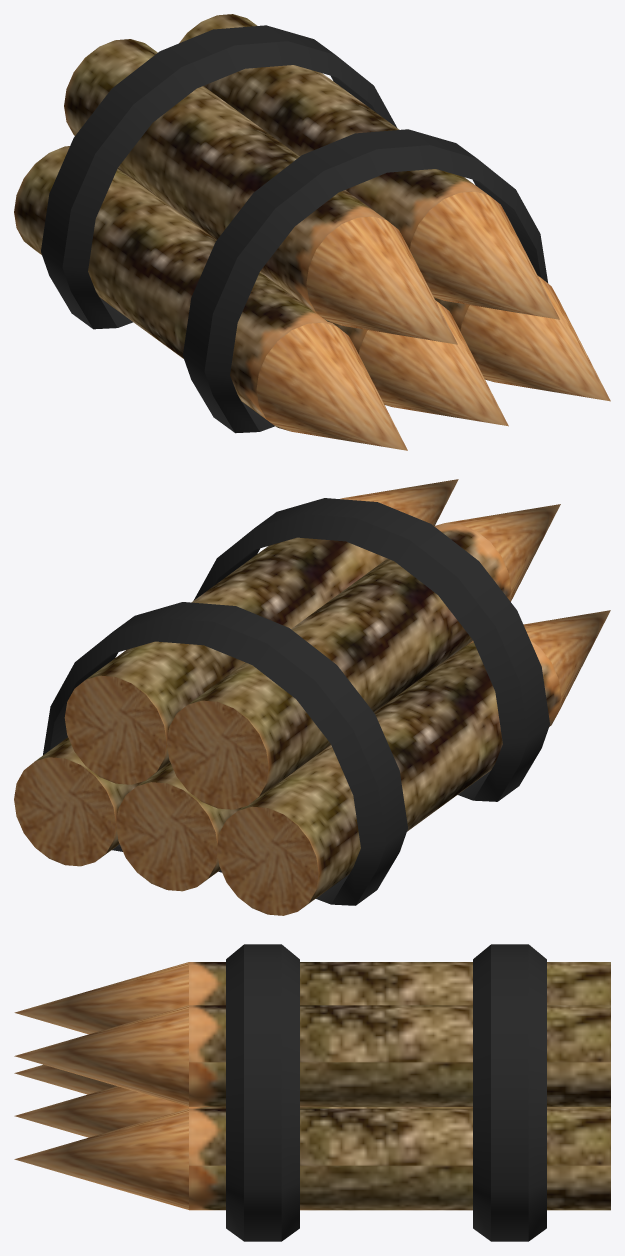
The model's file is pale of stakes.fbx.
3 views of the same model, one above another, from view 1: azimuth 30°, elevation 25°; view 2: azimuth 150°, elevation 25°; view 3: azimuth 270°, elevation 25° (orthographic). The views are drawn at different scales.
Parts seen in each view (by area): view 1: pCylinder6; view 2: pCylinder6; view 3: pCylinder6.
Boxes of the visible parts, x1,y1,x2,y2 form: pCylinder6: [14, 14, 610, 450]; pCylinder6: [14, 479, 610, 915]; pCylinder6: [14, 944, 610, 1241].
Bounding box in the file's own units: 11.7 × 8.33 × 20.18.
